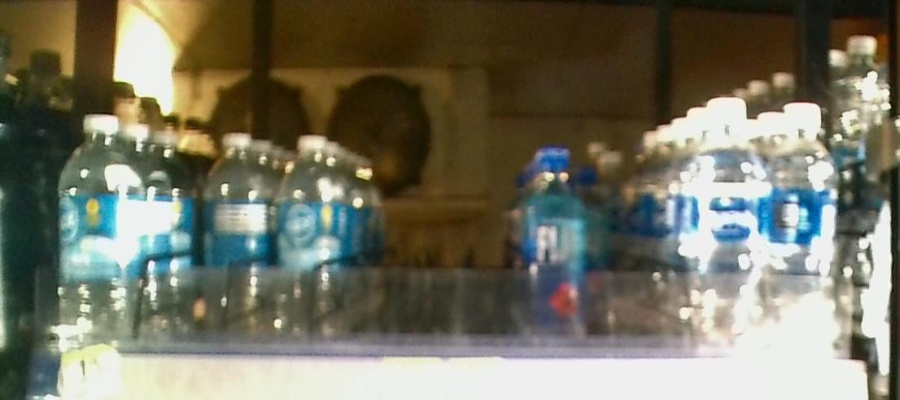bottle: (58, 106, 143, 362), (693, 92, 771, 362), (775, 96, 848, 362), (200, 127, 272, 349), (522, 134, 592, 351), (276, 132, 344, 351)
